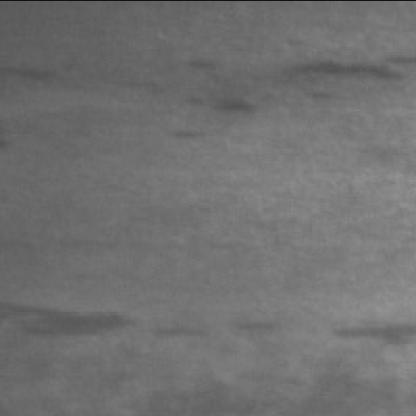inclusion: (166, 56, 410, 144), (0, 304, 139, 352), (147, 318, 276, 354), (312, 318, 414, 356), (0, 59, 62, 88)
